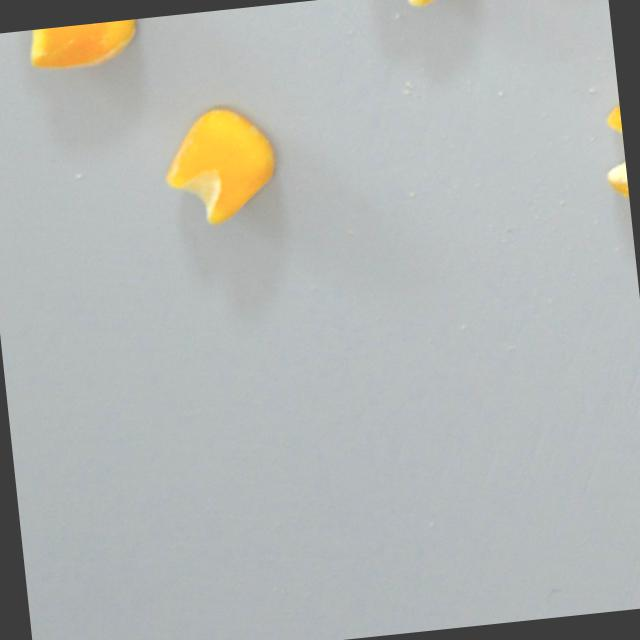no_canjicado: (157, 101, 283, 229), (594, 96, 630, 214)
pelicula: (8, 17, 141, 73), (359, 0, 475, 12)
